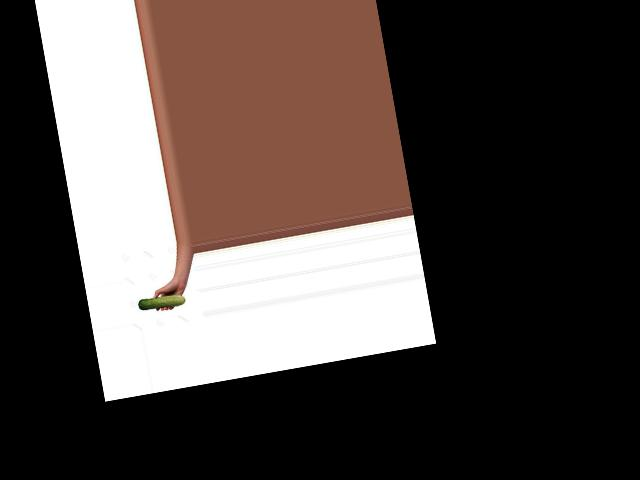cucumber: (137, 291, 186, 312)
